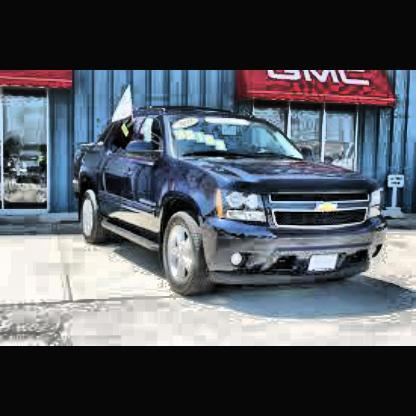Chevrolet Avalanche Crew Cab 2012: (72, 97, 392, 305)
